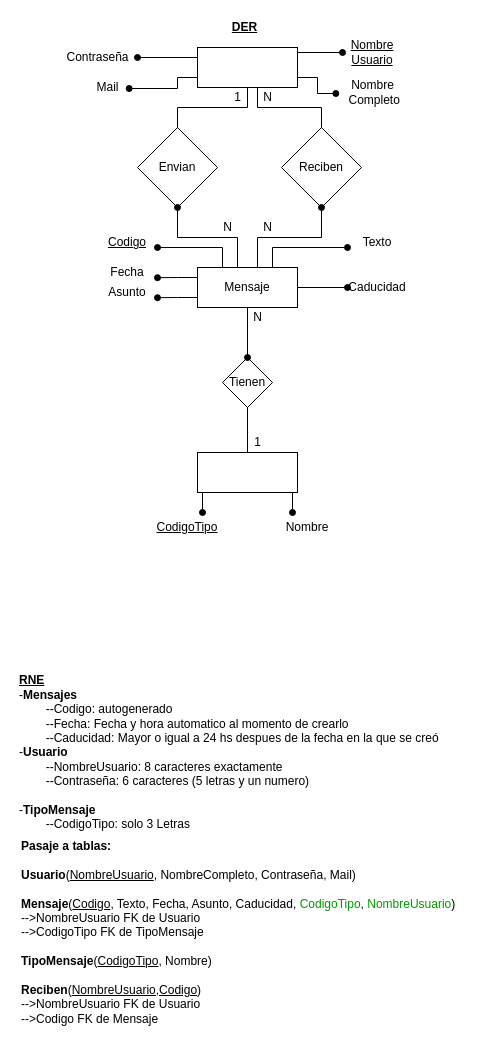
The diagram is 496 pixels wide and 1049 high, and some of its shapes have lost their labels. The shapes that lost their labels are listed below. From the top down, each one's centre as x and y in pixels, then its label:
At point (247, 67): "Usuario".
At point (247, 472): "TipoMensaje".
